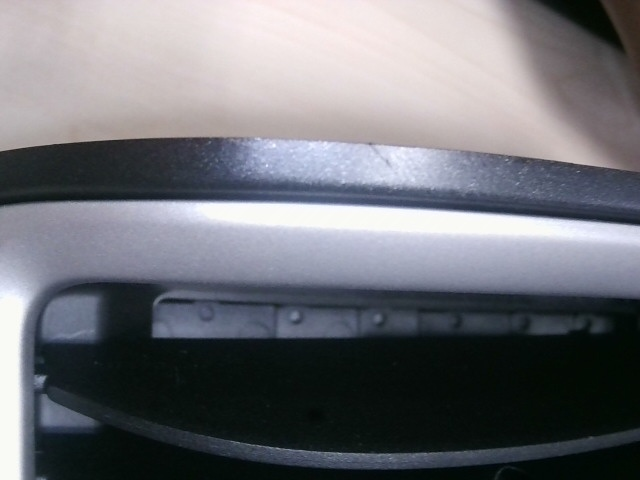NG: (357, 135, 400, 180)
